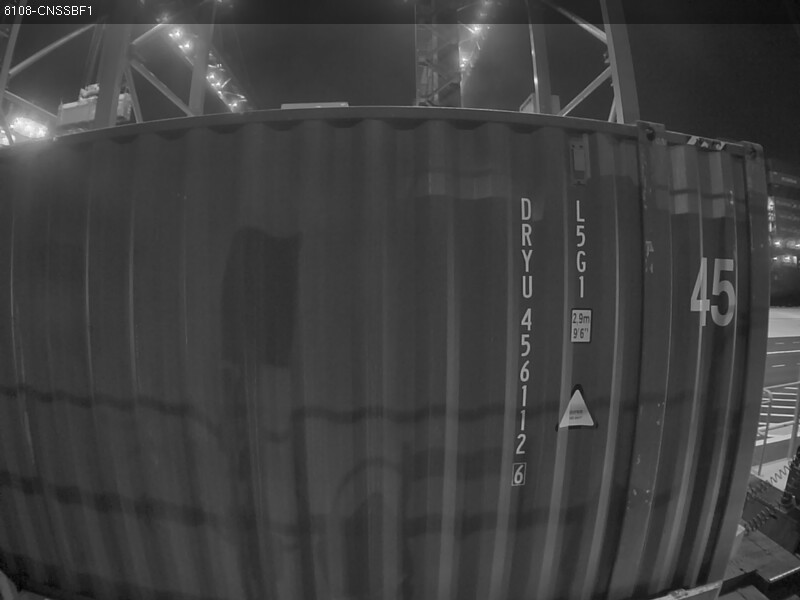container_no_door: (150, 96, 557, 580)
